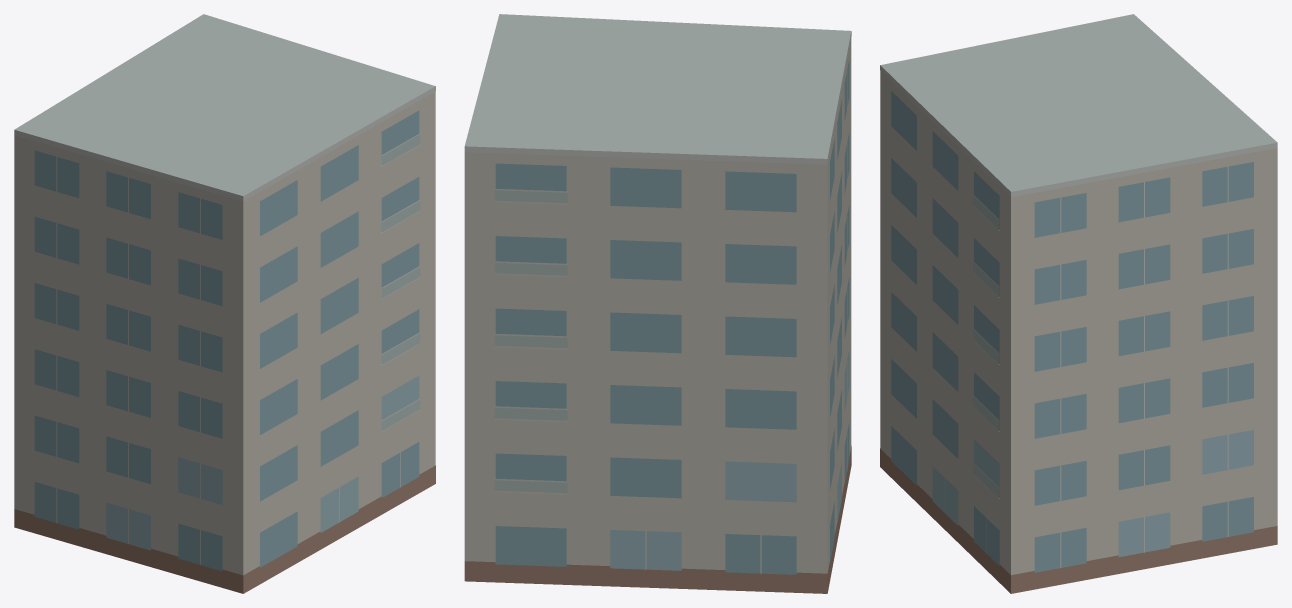
The model's file is survey-upis-32745678.glb.
3 renders of one model, left to right at view 1: azimuth 30°, elevation 25°; view 2: azimuth 150°, elevation 25°; view 3: azimuth 270°, elevation 25°, orthographic. The views are drawn at different scales.
Visible parts, largest first — view 1: survey-upis-32745678.tmp; view 2: survey-upis-32745678.tmp; view 3: survey-upis-32745678.tmp.
Boxes of the visible parts, bbox=[...] form: survey-upis-32745678.tmp: bbox=[14, 14, 435, 593]; survey-upis-32745678.tmp: bbox=[464, 14, 851, 593]; survey-upis-32745678.tmp: bbox=[880, 14, 1277, 593].
Bounding box in the file's own units: 17.38 × 18.3 × 16.41.
